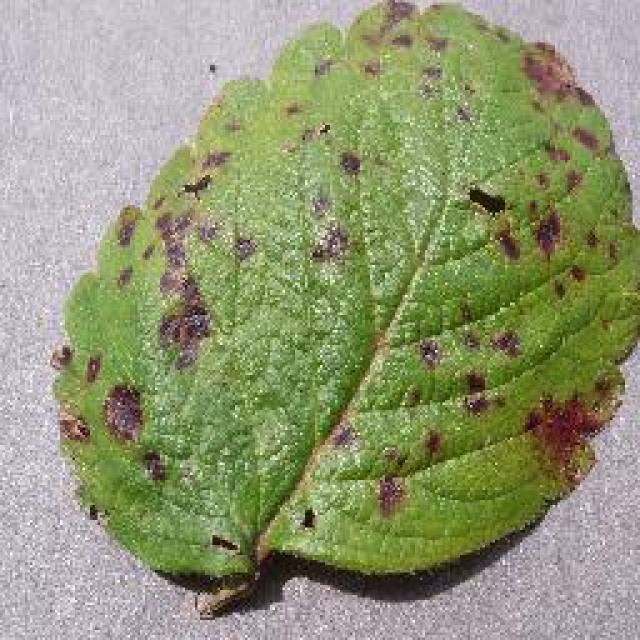Strawberry leaf scorch: (125, 47, 610, 498)
